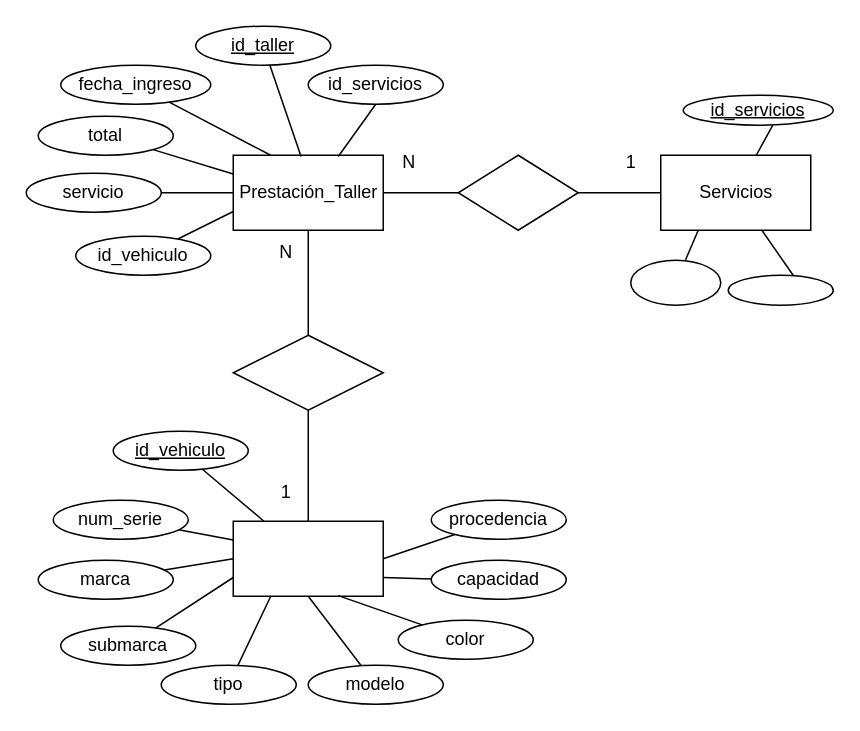
Some shapes in this 860 by 731 pixel diagram are drawn without their labels. The shapes that lost their labels are listed below. From the top down, each one's centre as x and y in pixels, then its label:
point (517, 192): Ejerce
point (675, 282): Nombre
point (780, 289): Costo
point (307, 372): Entra
point (307, 558): Vehículo
